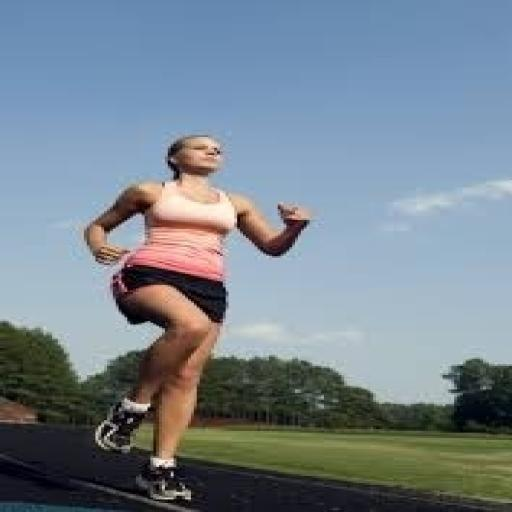running: (78, 132, 315, 503)
